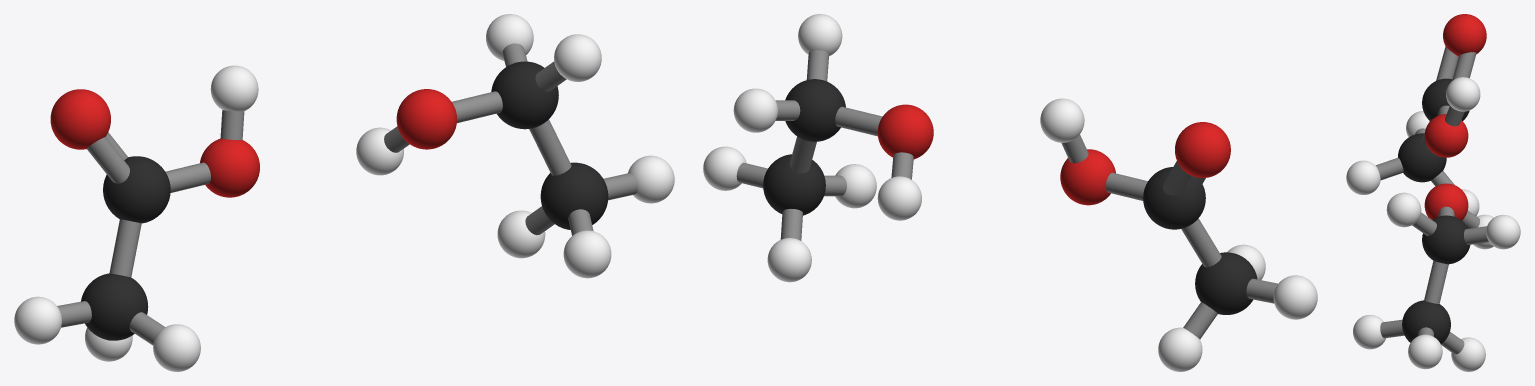
File: veresterung.glb
3 renders of one model, left to right at view 1: azimuth 30°, elevation 25°; view 2: azimuth 150°, elevation 25°; view 3: azimuth 270°, elevation 25°, orthographic. The views are drawn at different scales.
Visible parts, largest first — view 1: A_Cc, A_Cm, A_C1e, A_C2e, A_Oe, A_Oc, A_Oh, A_He5, A_Ha1, A_Ha2, A_He2, A_Ho (+15 smaller); view 2: A_Cm, A_C1e, A_C2e, A_Oc, A_Cc, A_Oe, A_Oh, A_Ha1, A_He, A_Ho, A_He1, A_He3 (+16 smaller); view 3: A_C1e, A_Cm, A_C2e, A_Oc, A_Oh, A_Oe, A_He4, A_He1, A_Ho, A_He2, A_Ha2, A_He5 (+16 smaller).
Boxes of the visible parts, x1,y1,x2,y2 form: A_Cc: (103,156,170,223); A_Cm: (81,273,148,340); A_C1e: (491,61,558,129); A_C2e: (540,162,608,229); A_Oe: (396,89,457,149); A_Oc: (50,89,110,149); A_Oh: (200,138,259,197); A_He5: (563,230,611,278); A_Ha1: (14,296,61,344); A_Ha2: (153,324,200,371); A_He2: (554,34,601,81); A_Ho: (210,65,258,111); A_Cm: (1195,252,1257,314); A_C1e: (785,79,845,141); A_C2e: (763,154,825,215); A_Oc: (1175,122,1230,177); A_Cc: (1143,167,1205,229); A_Oe: (877,104,933,159); A_Oh: (1060,149,1115,205); A_Ha1: (1273,275,1317,319); A_He: (877,176,921,220); A_Ho: (1040,98,1084,142); A_He1: (733,88,777,132); A_He3: (767,238,811,282); A_C1e: (1422,215,1470,264); A_Cm: (1398,133,1446,182); A_C2e: (1402,300,1450,343); A_Oc: (1443,14,1486,56); A_Oh: (1424,114,1468,157); A_Oe: (1424,183,1468,220); A_He4: (1408,334,1442,369); A_He1: (1486,214,1520,249); A_Ho: (1446,77,1480,111); A_He2: (1386,192,1421,227); A_Ha2: (1346,160,1380,194); A_He5: (1353,315,1386,349).
Size of what is drawn, in the model's own units: 9.49 by 3.79 by 3.03.
